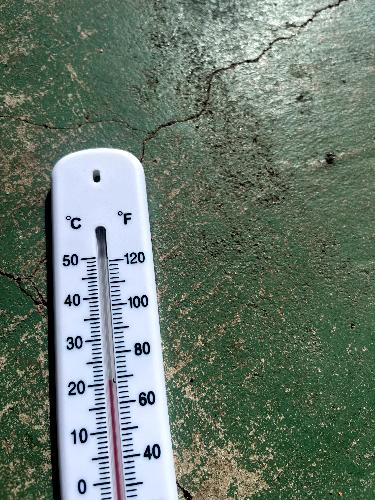thermo: (49, 142, 180, 500)
